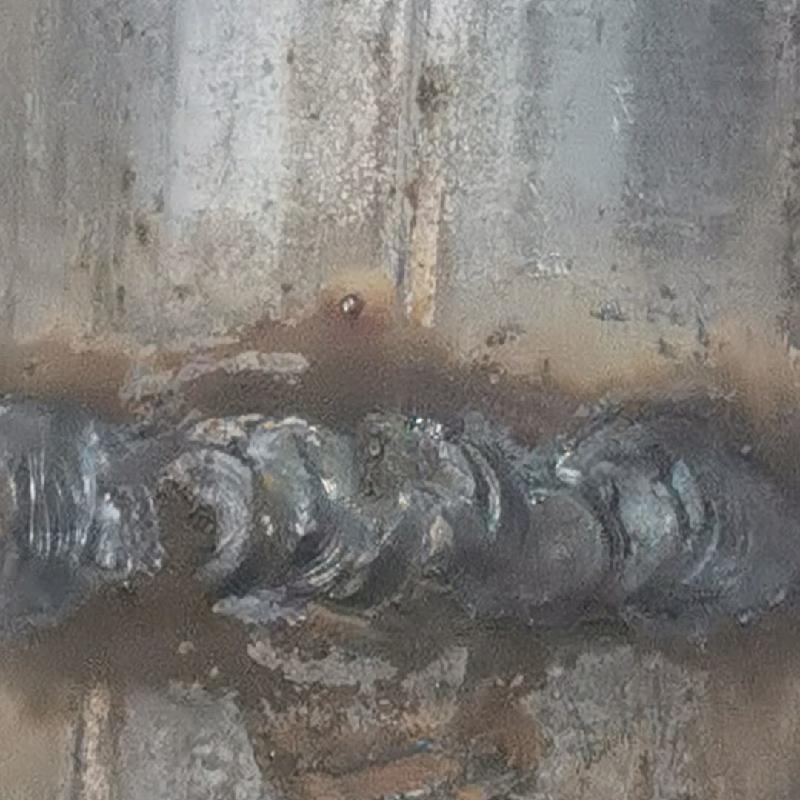good: (3, 391, 799, 622)
